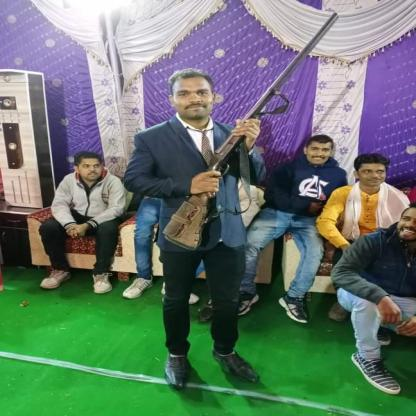rifle: (159, 10, 342, 254)
